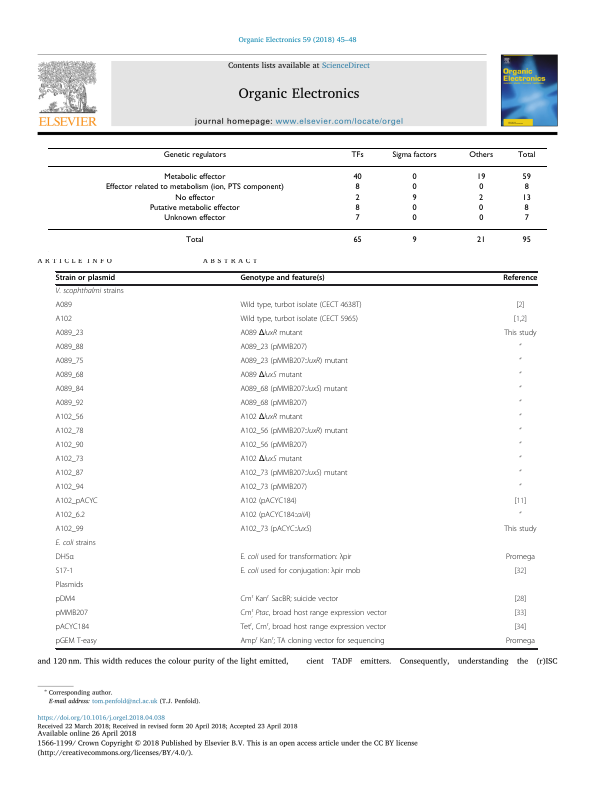borderless: (54, 270, 537, 648), (46, 146, 548, 253)
cell: (104, 183, 284, 193), (239, 607, 387, 619), (239, 621, 387, 633), (239, 635, 385, 647), (239, 301, 362, 311), (239, 567, 361, 577), (239, 315, 359, 325), (239, 593, 339, 605), (239, 553, 352, 563), (239, 357, 349, 367), (239, 427, 349, 437), (239, 385, 348, 395), (239, 469, 348, 479), (148, 203, 240, 213), (239, 274, 326, 283), (239, 525, 312, 535), (239, 511, 311, 521), (55, 287, 125, 297), (239, 343, 308, 353), (239, 399, 308, 409), (239, 441, 308, 451), (239, 483, 308, 493), (162, 150, 227, 160), (239, 329, 303, 339), (239, 371, 303, 381), (239, 413, 303, 423), (239, 455, 303, 465), (239, 497, 297, 507), (163, 173, 226, 182), (163, 214, 226, 223), (55, 274, 116, 283), (391, 150, 437, 160), (55, 497, 99, 507), (55, 637, 98, 647), (55, 539, 97, 549), (174, 193, 215, 203), (55, 623, 90, 633), (503, 329, 537, 339), (503, 525, 537, 535), (55, 609, 89, 619), (502, 274, 538, 283), (55, 511, 86, 521), (505, 553, 536, 563), (505, 637, 536, 647), (55, 329, 84, 339), (55, 343, 84, 353), (55, 357, 84, 367), (55, 371, 84, 381), (55, 385, 84, 395), (55, 399, 84, 409), (55, 413, 84, 423), (55, 427, 84, 437), (55, 441, 84, 451), (55, 455, 84, 465), (55, 469, 84, 479), (55, 483, 84, 493), (55, 525, 84, 535), (55, 581, 84, 591), (468, 150, 494, 160), (55, 595, 76, 605), (55, 553, 75, 563), (516, 150, 536, 160), (55, 567, 74, 577), (185, 236, 204, 246), (55, 301, 73, 311), (55, 315, 73, 325), (513, 315, 528, 325), (513, 497, 527, 507), (513, 567, 527, 577), (513, 595, 527, 605), (513, 609, 527, 619), (513, 623, 527, 633), (350, 150, 364, 160), (515, 301, 525, 311), (521, 193, 531, 203), (352, 236, 362, 246), (476, 236, 486, 246), (521, 236, 531, 246), (352, 173, 362, 182), (476, 173, 486, 182), (521, 173, 531, 182), (354, 183, 360, 193), (411, 183, 417, 193), (478, 183, 484, 193), (523, 183, 529, 193), (354, 193, 360, 203), (411, 193, 417, 203), (478, 193, 484, 203), (354, 203, 360, 213), (411, 203, 417, 213), (478, 203, 484, 213), (523, 203, 529, 213), (411, 236, 417, 246), (411, 173, 417, 182), (354, 214, 360, 223), (411, 214, 417, 223), (478, 214, 484, 223), (523, 214, 529, 223), (518, 343, 522, 351), (518, 357, 522, 365), (518, 371, 522, 379), (518, 385, 522, 393), (518, 399, 522, 407), (518, 413, 522, 421), (518, 427, 522, 435), (518, 441, 522, 449), (518, 455, 522, 463), (518, 469, 522, 477), (518, 483, 522, 491), (518, 511, 522, 519)
